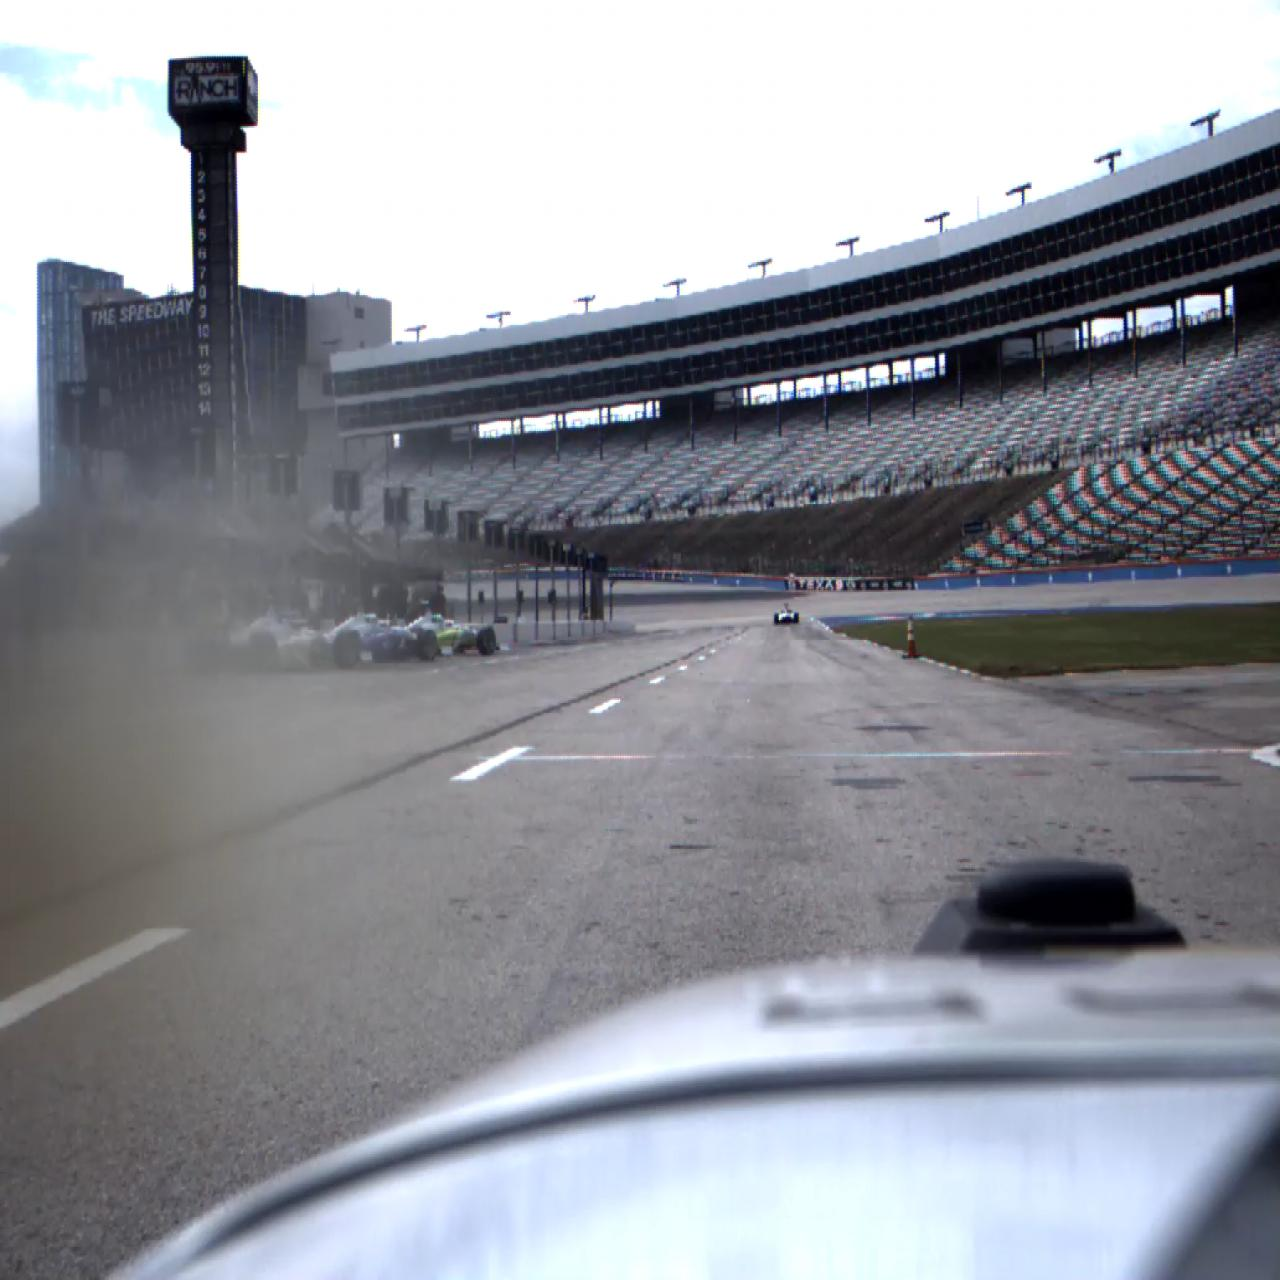AV: (774, 604, 799, 624)
Wheel: (248, 632, 278, 670), (334, 629, 361, 668), (417, 629, 437, 662), (477, 626, 496, 656), (795, 613, 798, 624), (775, 613, 778, 624)
